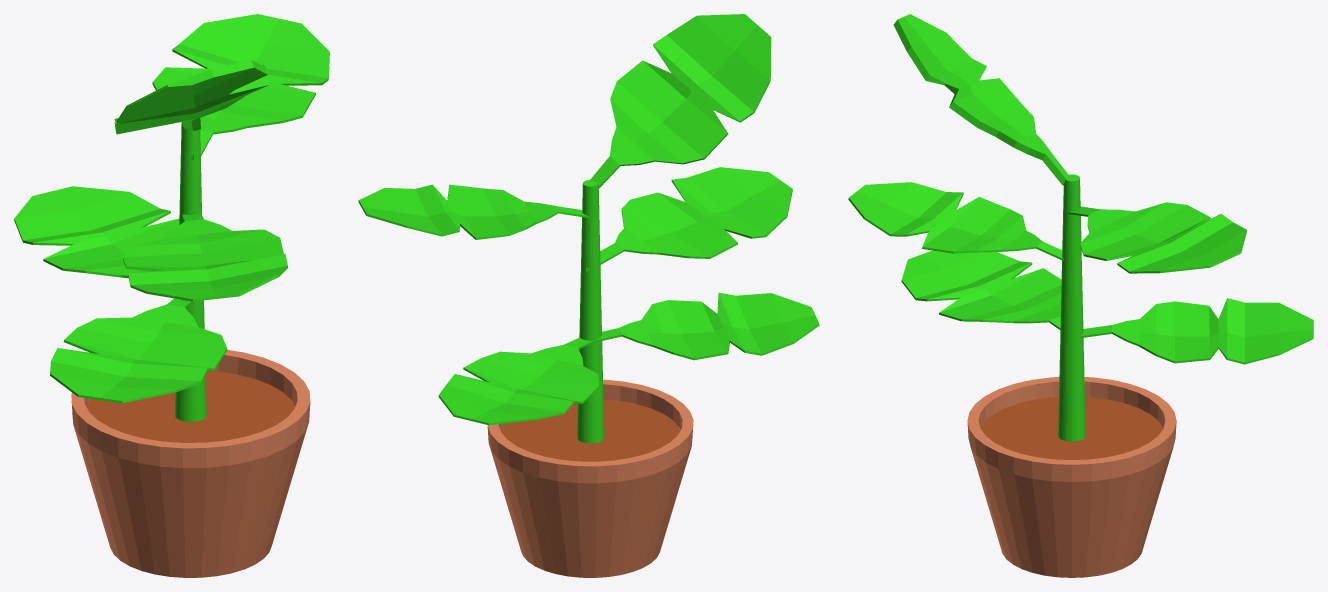
Rendered from Plant_pot.fbx.
3 renders of one model, left to right at view 1: azimuth 30°, elevation 25°; view 2: azimuth 150°, elevation 25°; view 3: azimuth 270°, elevation 25°, orthographic. The views are drawn at different scales.
Parts seen in each view (by area): view 1: Cylinder; view 2: Cylinder; view 3: Cylinder.
Boxes of the visible parts, x1=… form: Cylinder: x1=14, y1=14, x2=329, y2=577; Cylinder: x1=358, y1=14, x2=819, y2=577; Cylinder: x1=848, y1=14, x2=1313, y2=577.
Bounding box in the file's own units: 552 × 788 × 672.
